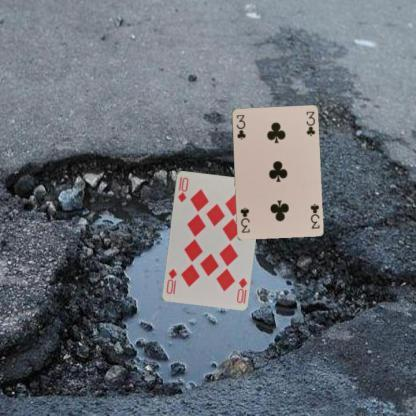10d: (175, 174, 190, 204), (234, 275, 248, 304)
3c: (307, 201, 321, 230), (234, 112, 247, 140)
